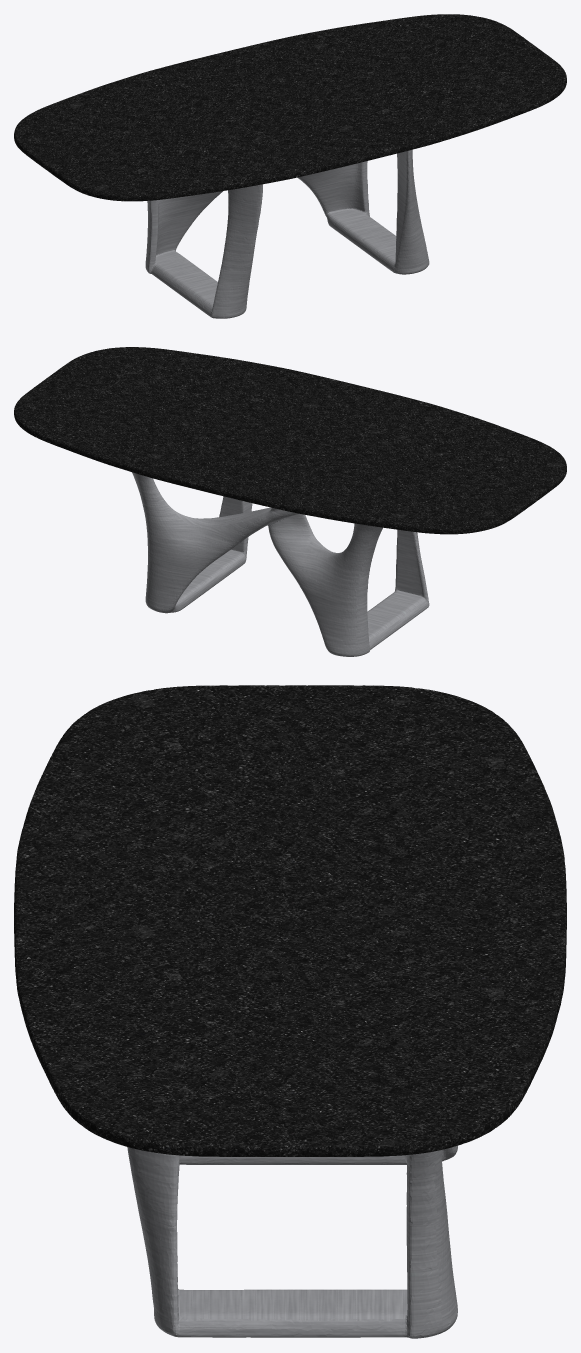
Rendered from blackgranitedining.glb.
3 views of the same model, one above another, from view 1: azimuth 30°, elevation 25°; view 2: azimuth 150°, elevation 25°; view 3: azimuth 270°, elevation 25° (orthographic). The views are drawn at different scales.
Parts seen in each view (by area): view 1: world.001; view 2: world.001; view 3: world.001.
Boxes of the visible parts, <box> form: world.001: <box>14,14,566,318</box>; world.001: <box>14,347,566,656</box>; world.001: <box>14,685,566,1338</box>.
Bounding box in the file's own units: 1 × 0.3248 × 0.5068.
Materials: 2 (2 with a texture image).
